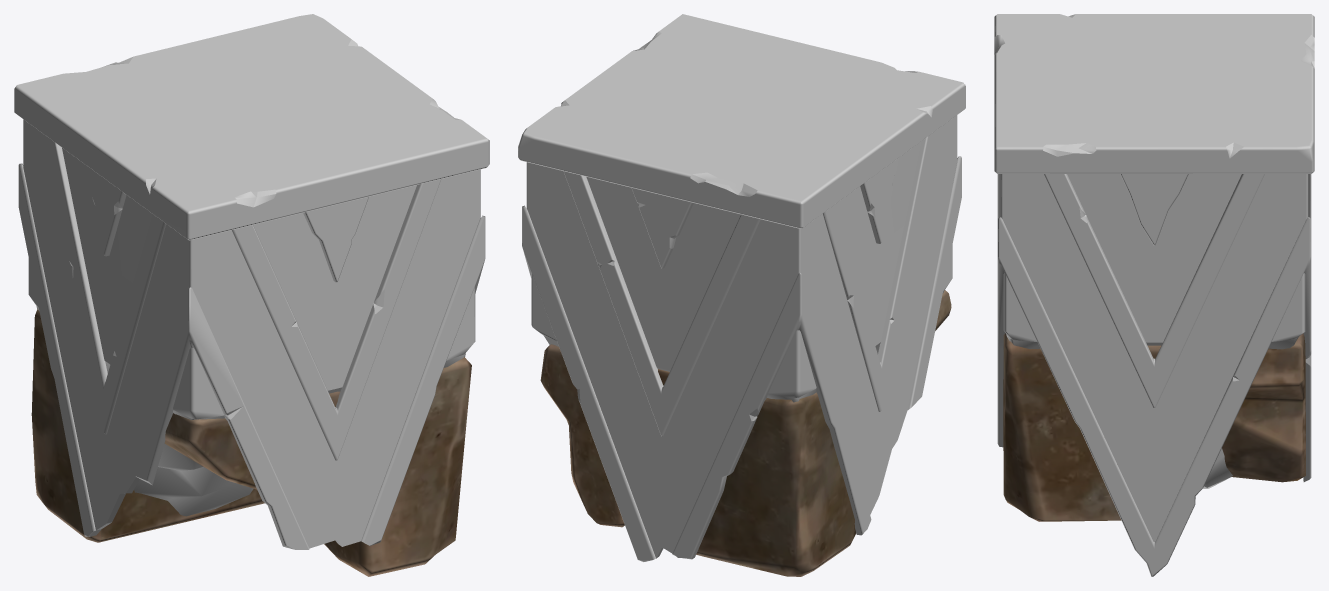
3 renders of one model, left to right at view 1: azimuth 30°, elevation 25°; view 2: azimuth 150°, elevation 25°; view 3: azimuth 270°, elevation 25°, orthographic. The views are drawn at different scales.
Visible parts, largest first — view 1: SM_Vault_8m_Column_Dmg_01_V3_LOD0; view 2: SM_Vault_8m_Column_Dmg_01_V3_LOD0; view 3: SM_Vault_8m_Column_Dmg_01_V3_LOD0.
Boxes of the visible parts, left/top/right/bottom form: SM_Vault_8m_Column_Dmg_01_V3_LOD0: left=14, top=14, right=489, bottom=576; SM_Vault_8m_Column_Dmg_01_V3_LOD0: left=518, top=14, right=965, bottom=576; SM_Vault_8m_Column_Dmg_01_V3_LOD0: left=994, top=14, right=1314, bottom=576.
Bounding box in the file's own units: 2.12 × 3.15 × 2.12.
